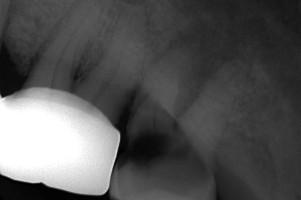Dental Caries: (149, 0, 301, 122)
Endo-Periodontal Lesion: (70, 38, 105, 91)
